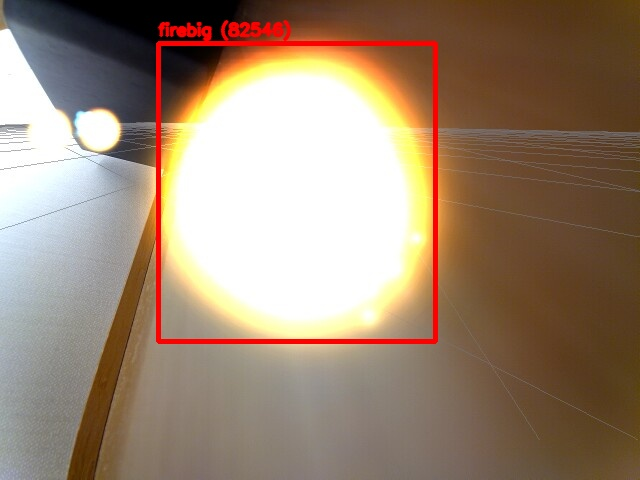firebig: (158, 43, 435, 341)
